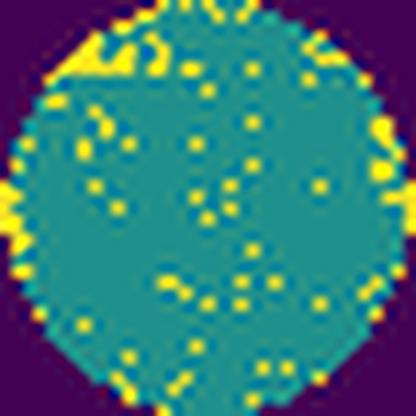Edge-Loc: (42, 31, 143, 78), (0, 179, 35, 258), (376, 180, 415, 238)
